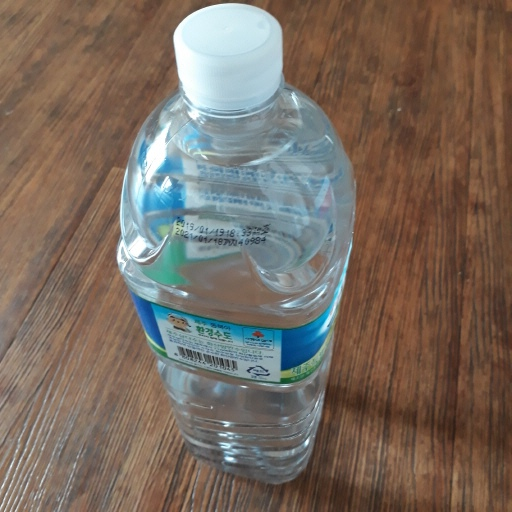Plastic_0: (118, 3, 356, 481)
